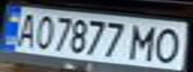7: (103, 19, 130, 58), (84, 18, 109, 56), (48, 14, 72, 52)
8: (66, 16, 90, 54)
A: (9, 10, 42, 47)
M: (127, 21, 163, 62)
O: (148, 25, 187, 64), (30, 11, 57, 51)
